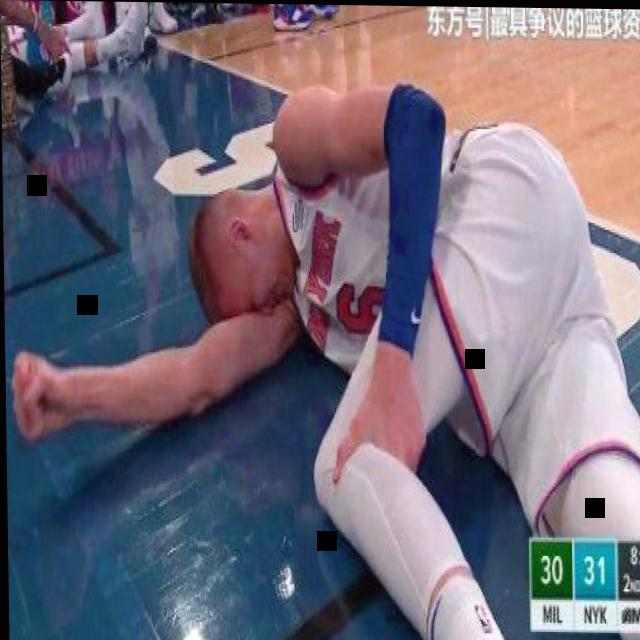Fall-Detected: (0, 23, 640, 640)
